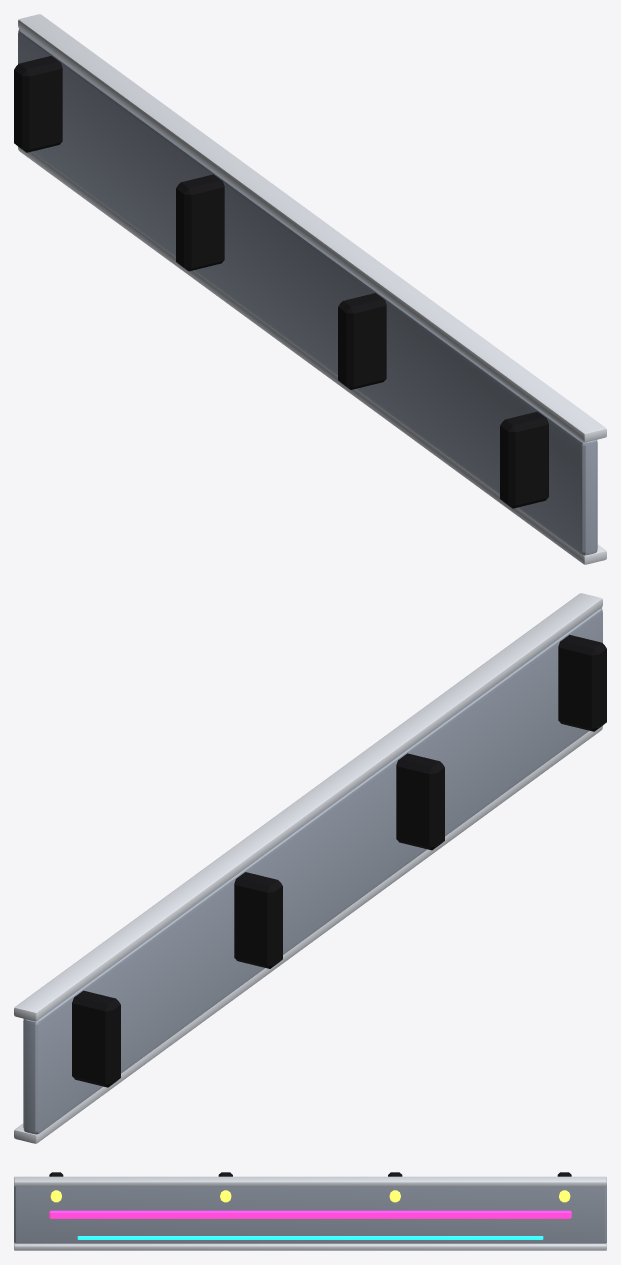
File: skirt_lit_neon.glb
3 renders of one model, top to bottom at view 1: azimuth 30°, elevation 25°; view 2: azimuth 150°, elevation 25°; view 3: azimuth 270°, elevation 25°, orthographic. The views are drawn at different scales.
Parts seen in each view (by area): view 1: steel, chrome, plastic_black; view 2: steel, chrome, plastic_black; view 3: steel, chrome, lamp_pink, lamp_cyan, lamp_amber, plastic_black.
Part boxes in pixels (<box>): steel: <box>18,29,597,555</box>; chrome: <box>18,14,606,564</box>; plastic_black: <box>14,55,548,508</box>; steel: <box>23,608,602,1134</box>; chrome: <box>14,593,602,1143</box>; plastic_black: <box>72,634,606,1087</box>; steel: <box>14,1186,606,1243</box>; chrome: <box>14,1176,606,1250</box>; lamp_pink: <box>49,1210,571,1218</box>; lamp_cyan: <box>77,1236,543,1239</box>; lamp_amber: <box>50,1190,570,1202</box>; plastic_black: <box>49,1172,571,1176</box>.
Size of the model in its own units: 0.27 by 0.54 by 4.2.
